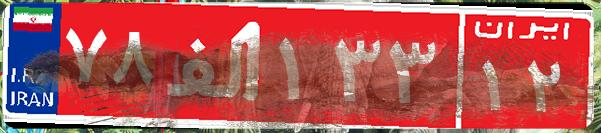1: (273, 28, 330, 110), (475, 38, 525, 113)
2: (525, 38, 570, 115)
3: (385, 28, 445, 110), (330, 28, 385, 110)
7: (57, 26, 110, 107)
8: (110, 28, 158, 105)
الف: (158, 15, 273, 115)
